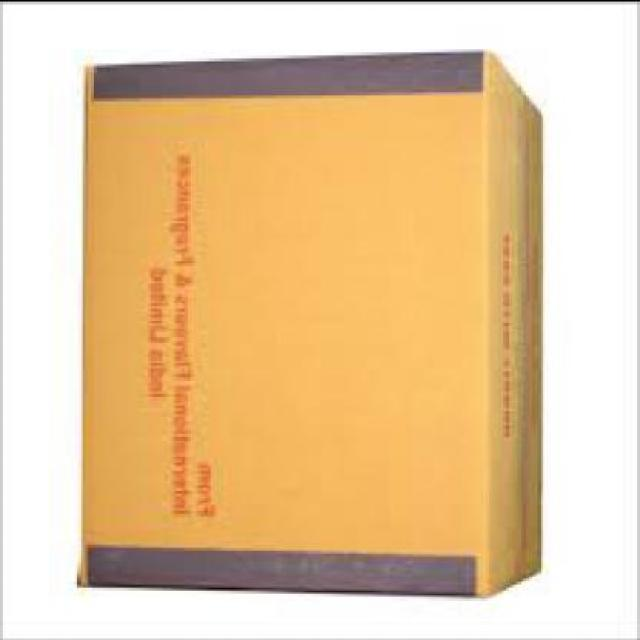CARDBOARD: (85, 51, 549, 600)
